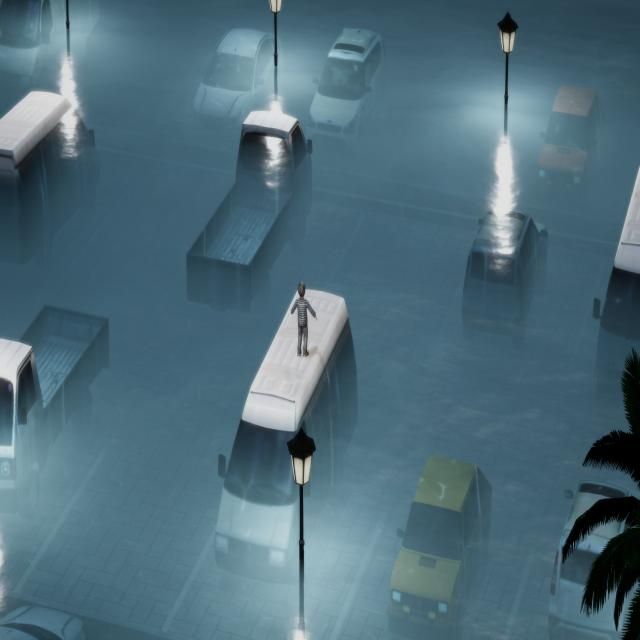Human: (286, 276, 322, 368)
